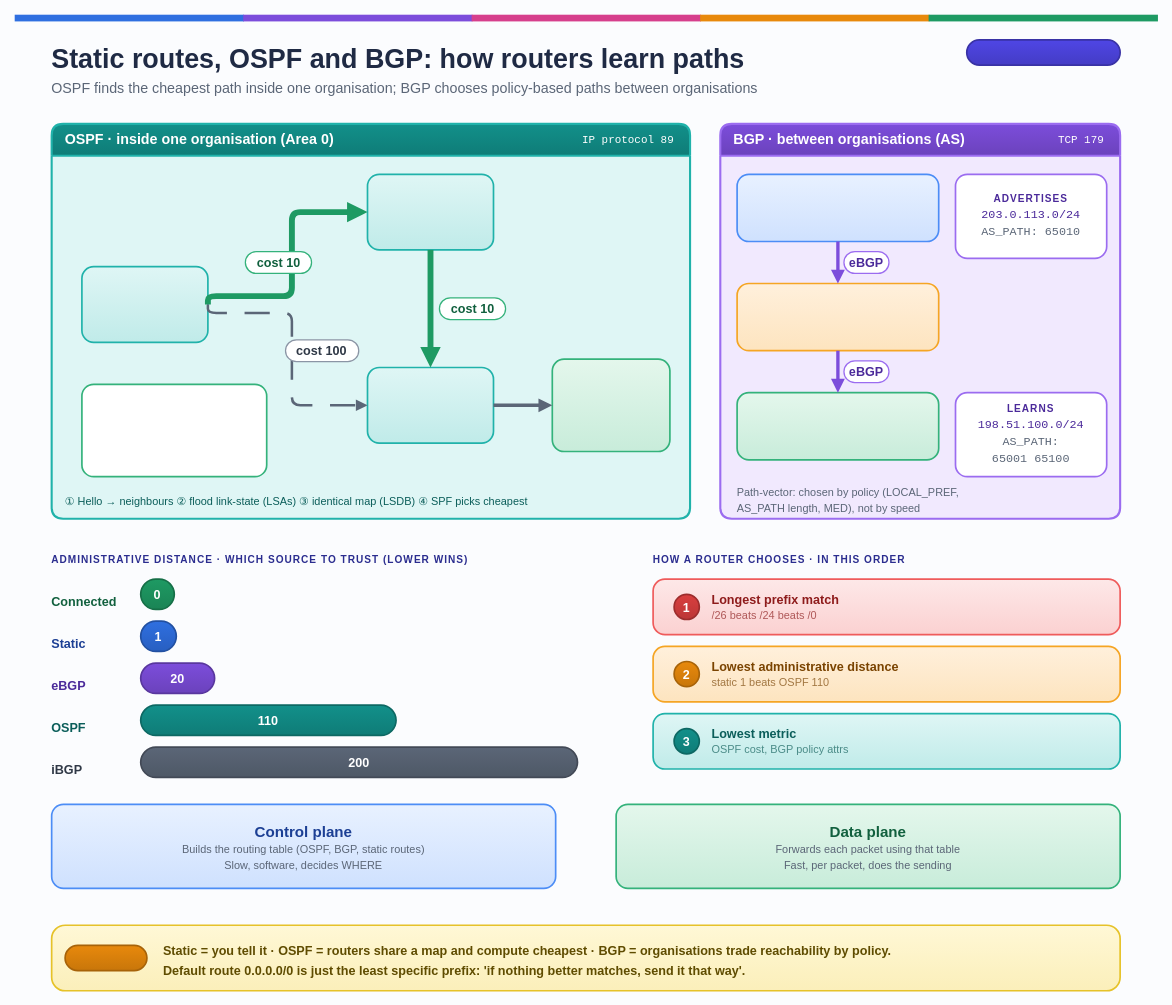
Image size: 1172x1005. Some labels were removed from this diagram. Here are the shapes that lost their labels. From the top down, the centre of each, then its label:
At (1043,52): "STAGE 08 · ROUTING".
At (430,211): "R2".
At (837,207): "AS 65010 · Enterprise owns 203.0.113.0/24".
At (144,304): "R1 source".
At (837,316): "AS 65001 · ISP transit provider".
At (430,405): "R3".
At (610,405): "10.3.0.0/24 destination LAN".
At (837,425): "AS 65100 · Content serves 198.51.100.0/24".
At (174,430): "Lowest total cost wins R1→R2→R3 = 20 R1→R3 direct = 100".
At (105,957): "REMEMBER".
